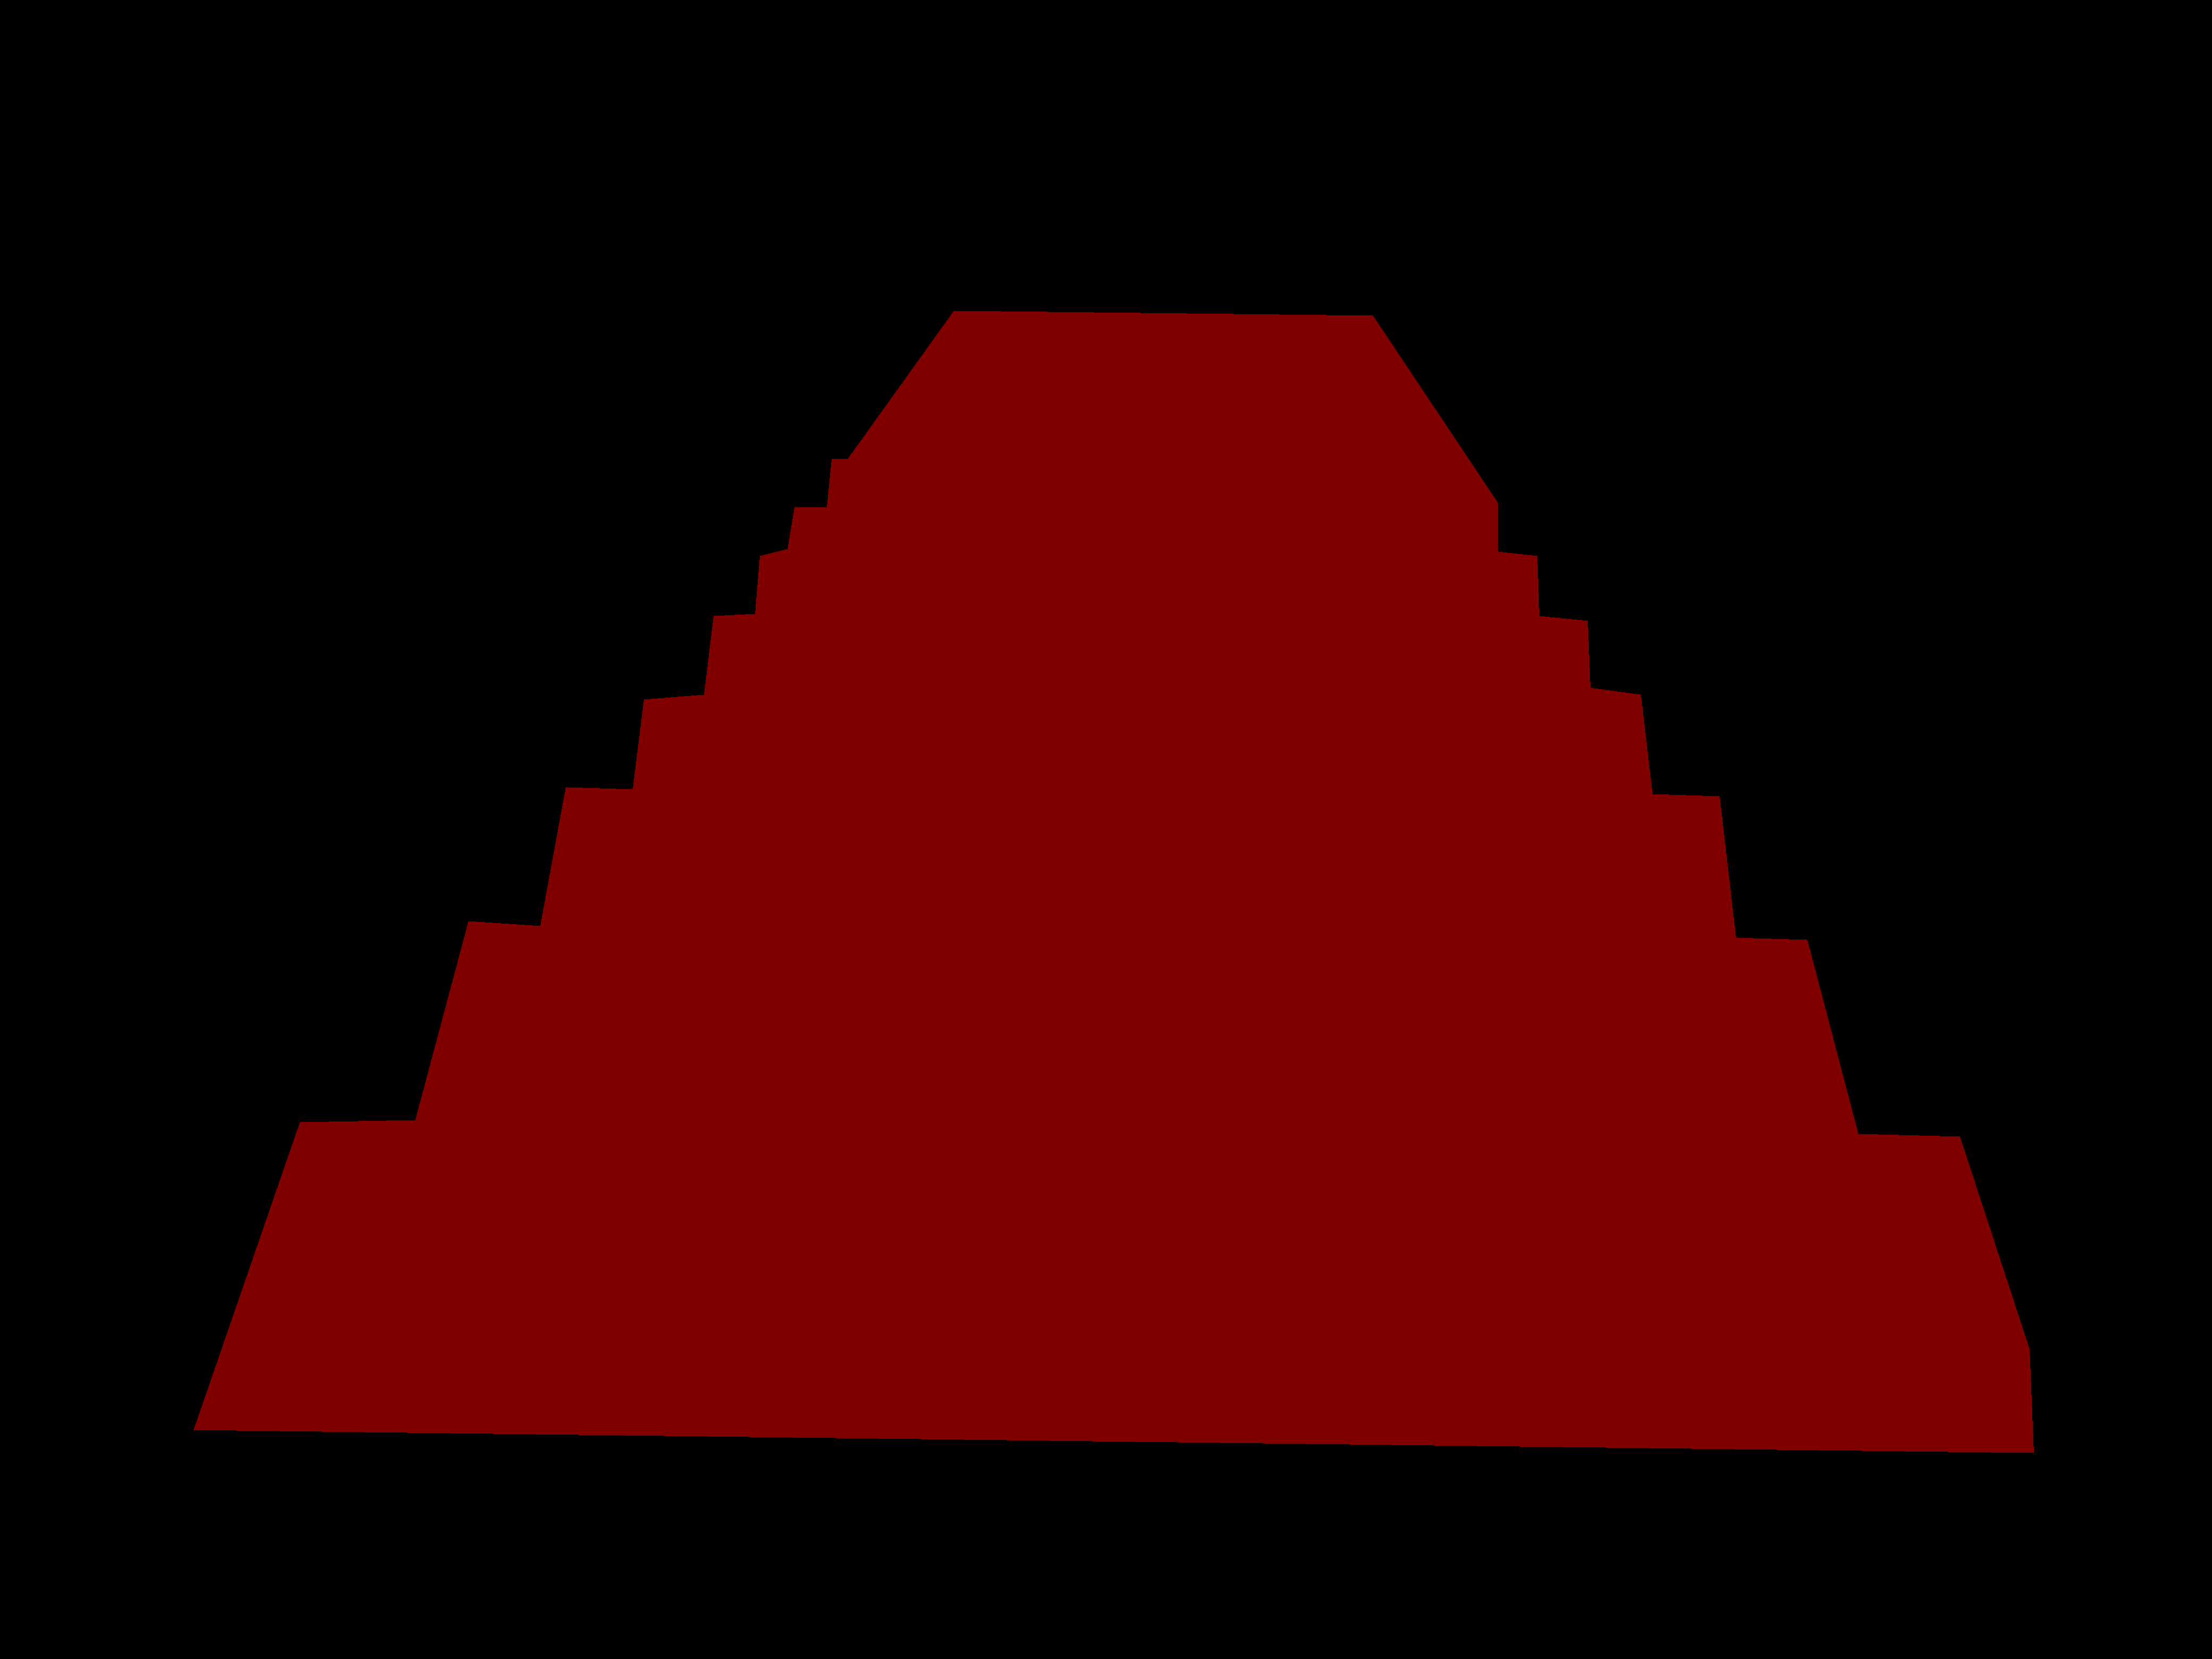stair: (193, 310, 2033, 1453)
